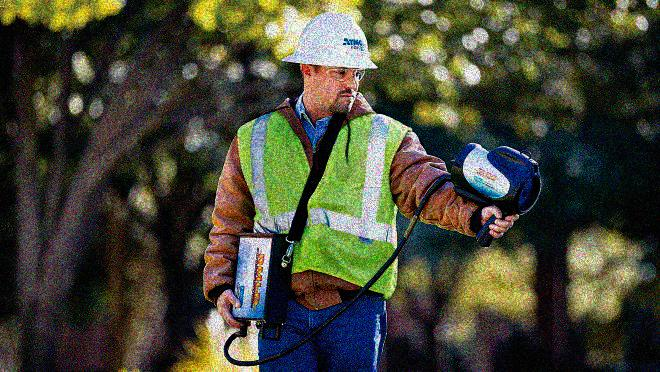helmet: (281, 12, 379, 114)
